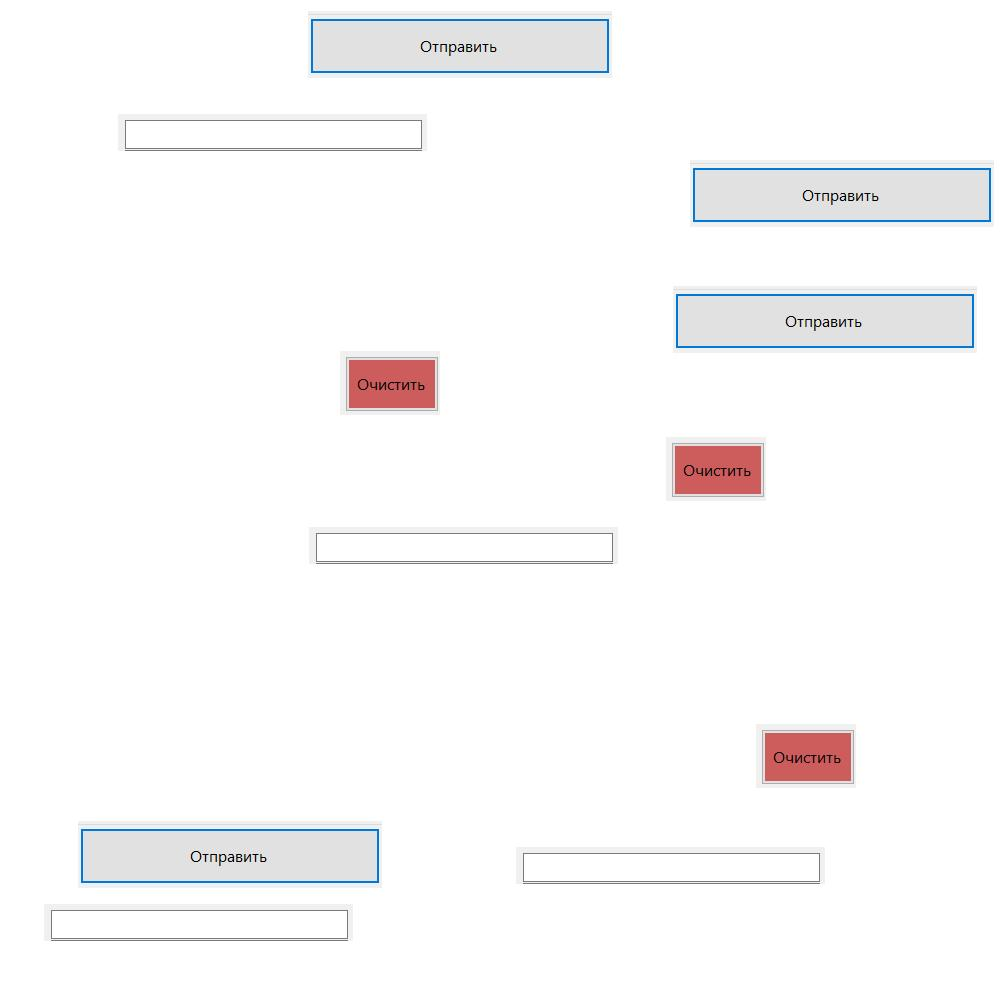Button: (308, 11, 612, 78), (78, 821, 382, 888), (690, 160, 994, 227), (673, 286, 977, 353), (666, 437, 766, 501), (756, 724, 856, 788), (340, 351, 440, 415)
EditText-: (44, 904, 353, 941), (516, 847, 825, 884), (309, 527, 618, 564), (118, 114, 427, 151)
